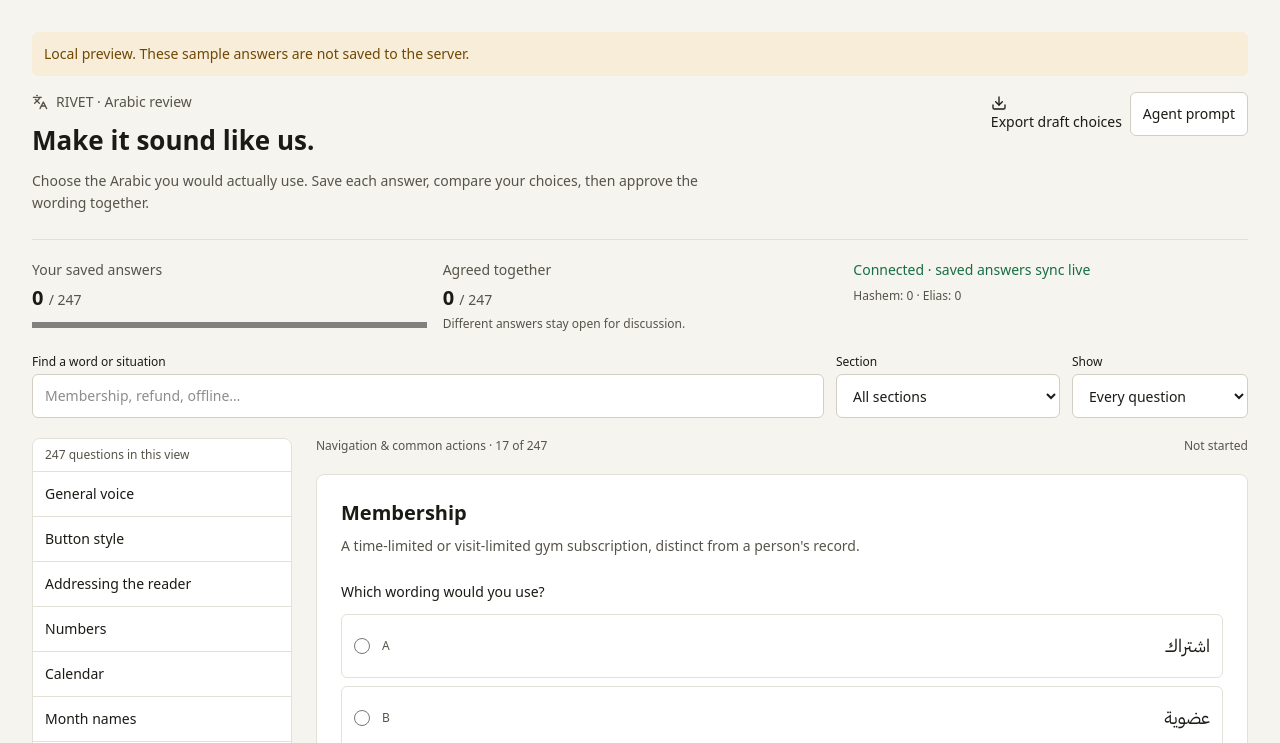
Arabic review interaction › filters the catalog by situation and section
The width and height of the screenshot is (1280, 743).
Type "bank refund" into the field labelled "Find a word or situation" at (428, 396), box [32,374,824,418]
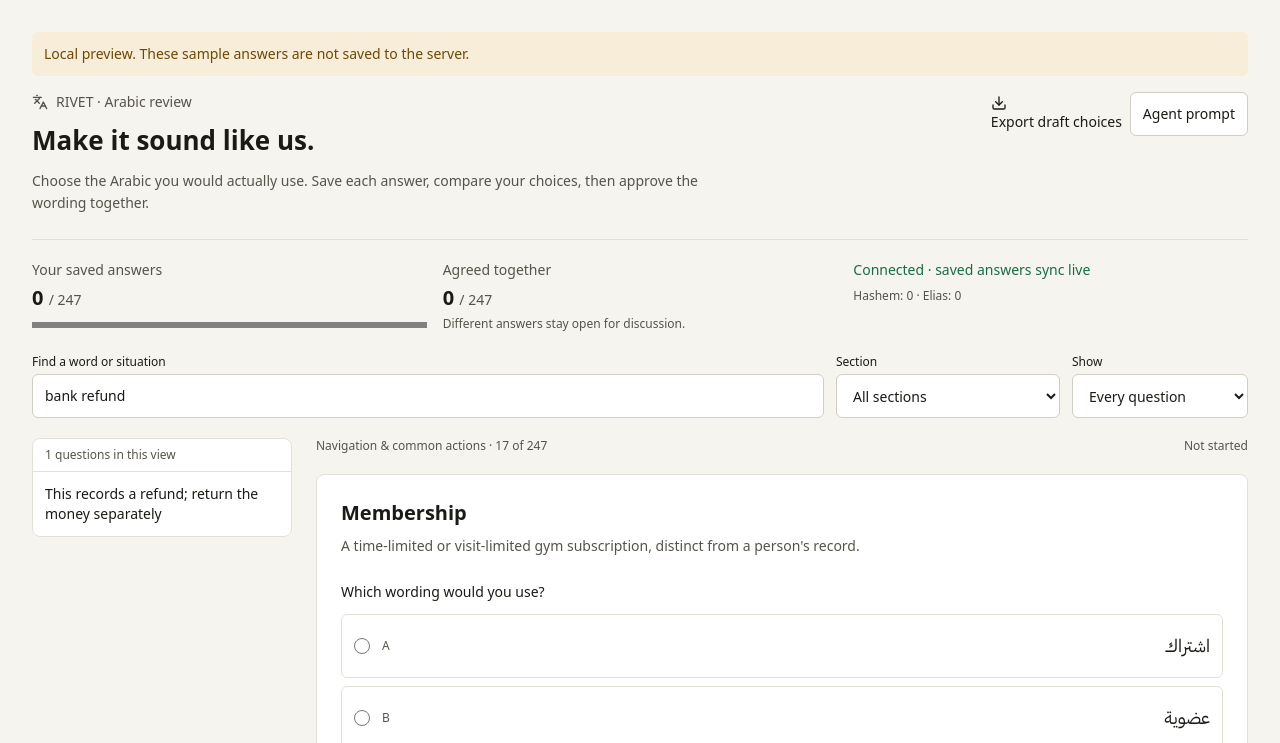
Now the button "This records a refund; return the money separately" is shown, box [33,472,291,536]
